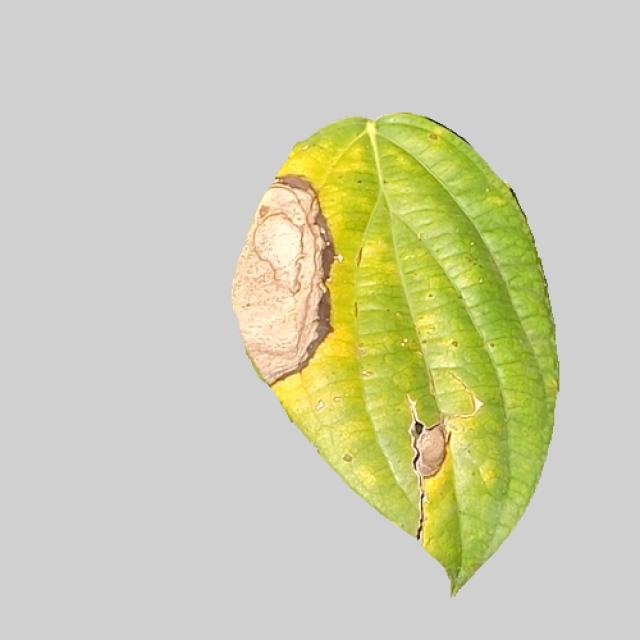leaf-blight: (214, 124, 559, 599)
